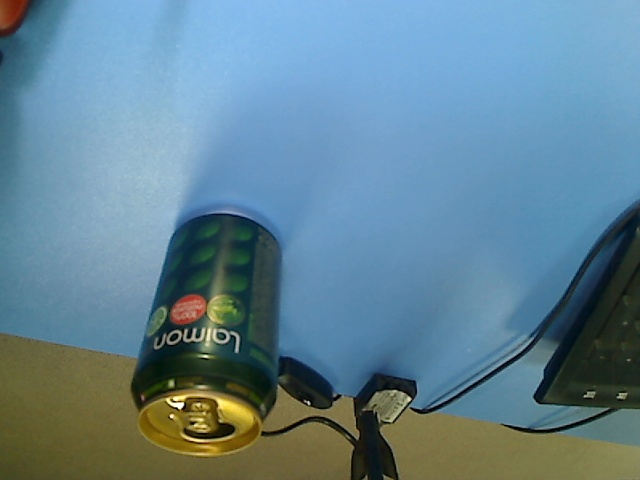can: (129, 207, 283, 462)
